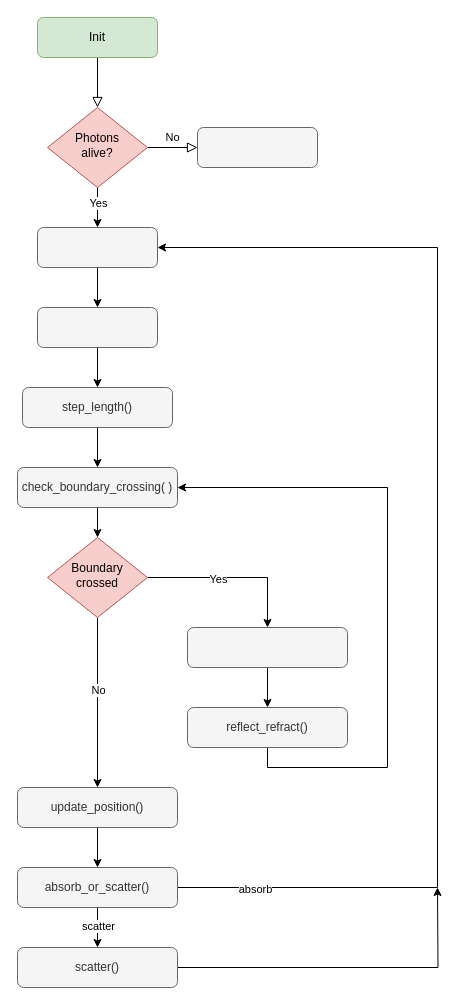
This 464x1005 diagram has some shape labels left out. The shapes that lost their labels are listed below. From the top down, each one's centre as x and y in pixels, then its label:
At (257,147): "Finish simulation".
At (97,247): "source.tick()".
At (97,327): "photon.tick()".
At (267,647): "move_to_intersection( )".
